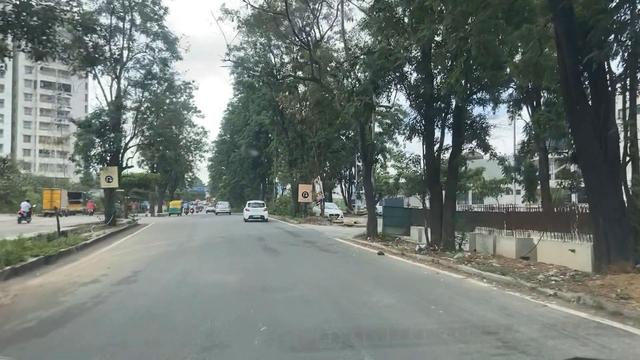LMV: (245, 199, 266, 222), (168, 201, 184, 216), (217, 200, 230, 216)
RoadDamages: (483, 320, 543, 360), (4, 277, 84, 298), (285, 223, 337, 254), (21, 309, 72, 340), (100, 266, 134, 289), (255, 233, 280, 258)
